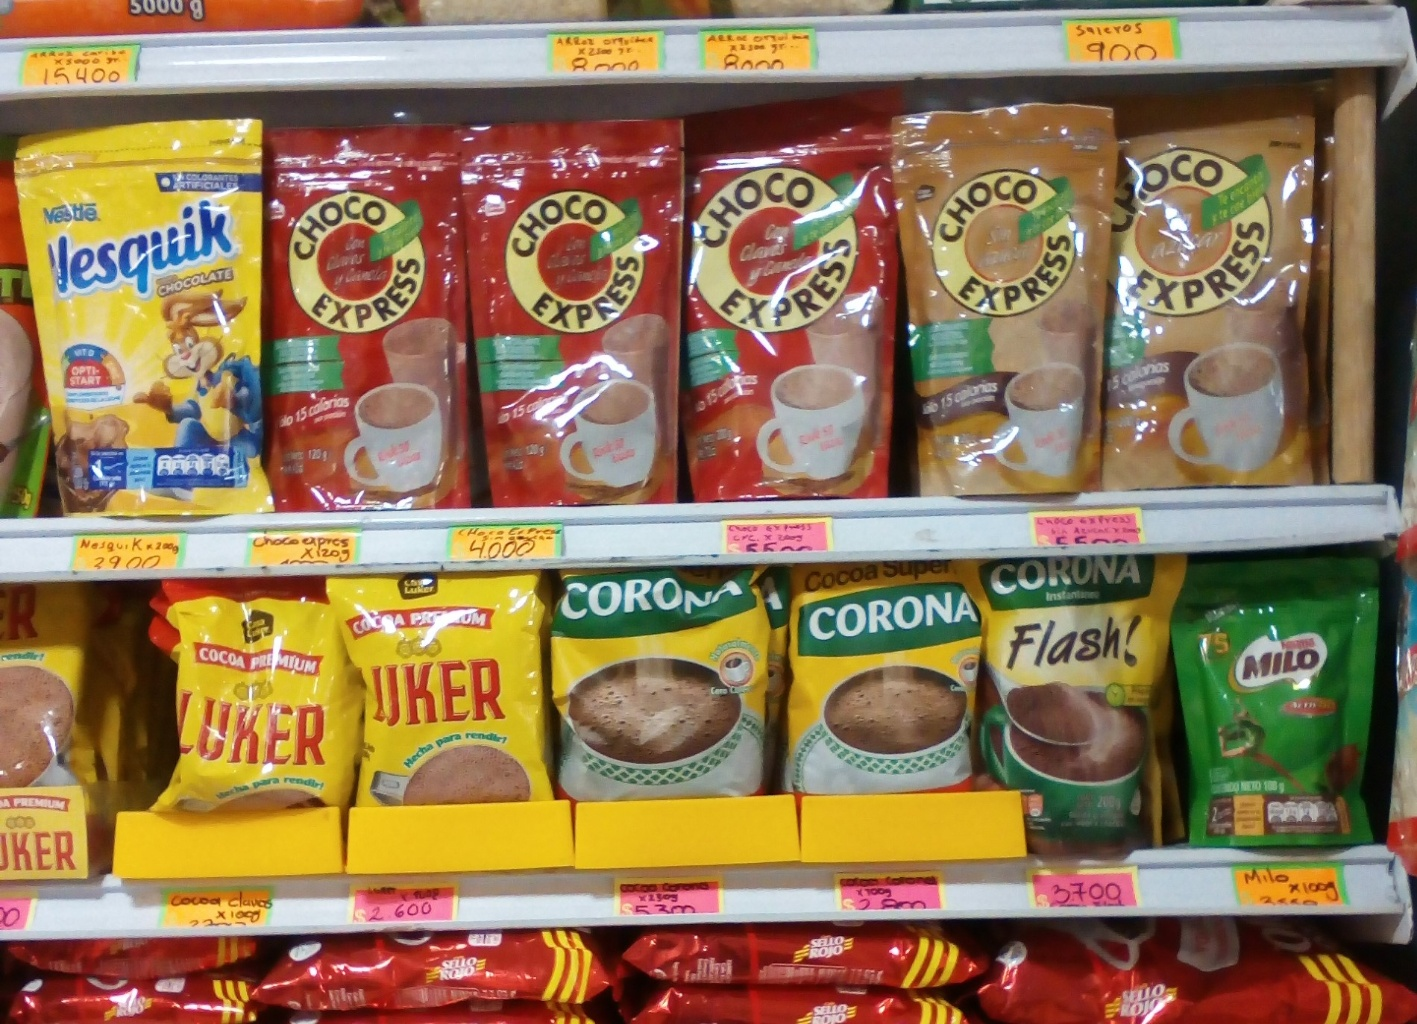COL0170203DYP10000: (1173, 546, 1373, 837)
COL0170303DYP20000: (7, 119, 274, 506)
